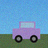vehicle: (13, 22, 40, 43)
